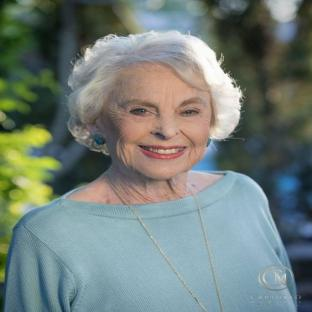Human: (3, 31, 297, 312)
